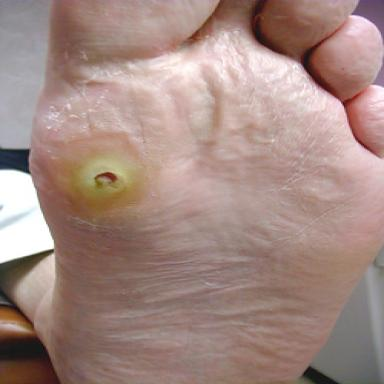Tungiasis: (60, 144, 144, 221)
